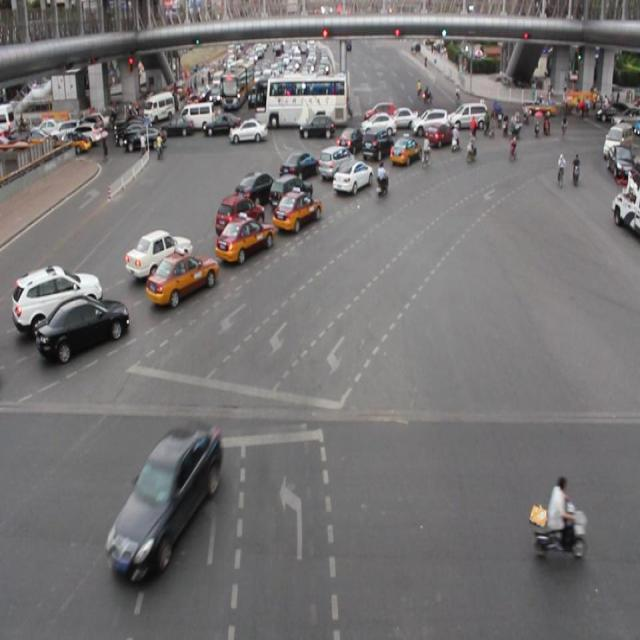car: (106, 419, 221, 577), (34, 294, 130, 360), (13, 263, 103, 333), (146, 251, 220, 301), (125, 228, 193, 278), (215, 216, 274, 260), (214, 193, 264, 237), (272, 189, 322, 229), (268, 172, 312, 212), (235, 170, 282, 207), (332, 158, 374, 195), (317, 145, 357, 180), (279, 150, 319, 184), (360, 127, 394, 162), (389, 132, 422, 168), (424, 121, 453, 149), (336, 124, 364, 152)
